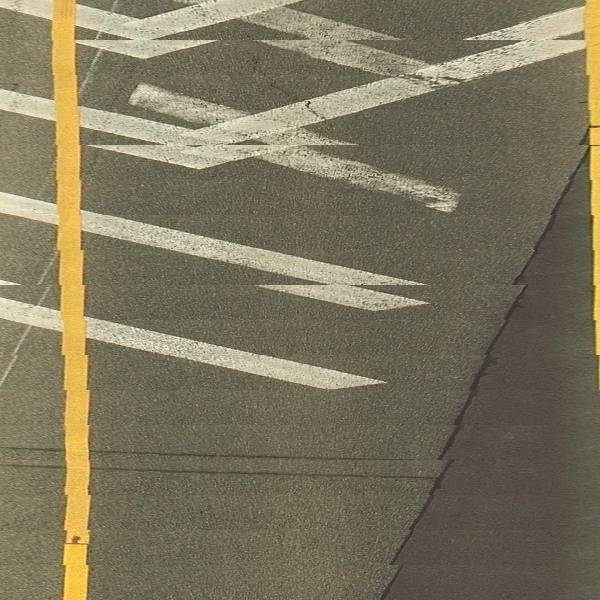road_damage: (381, 160, 581, 600)
